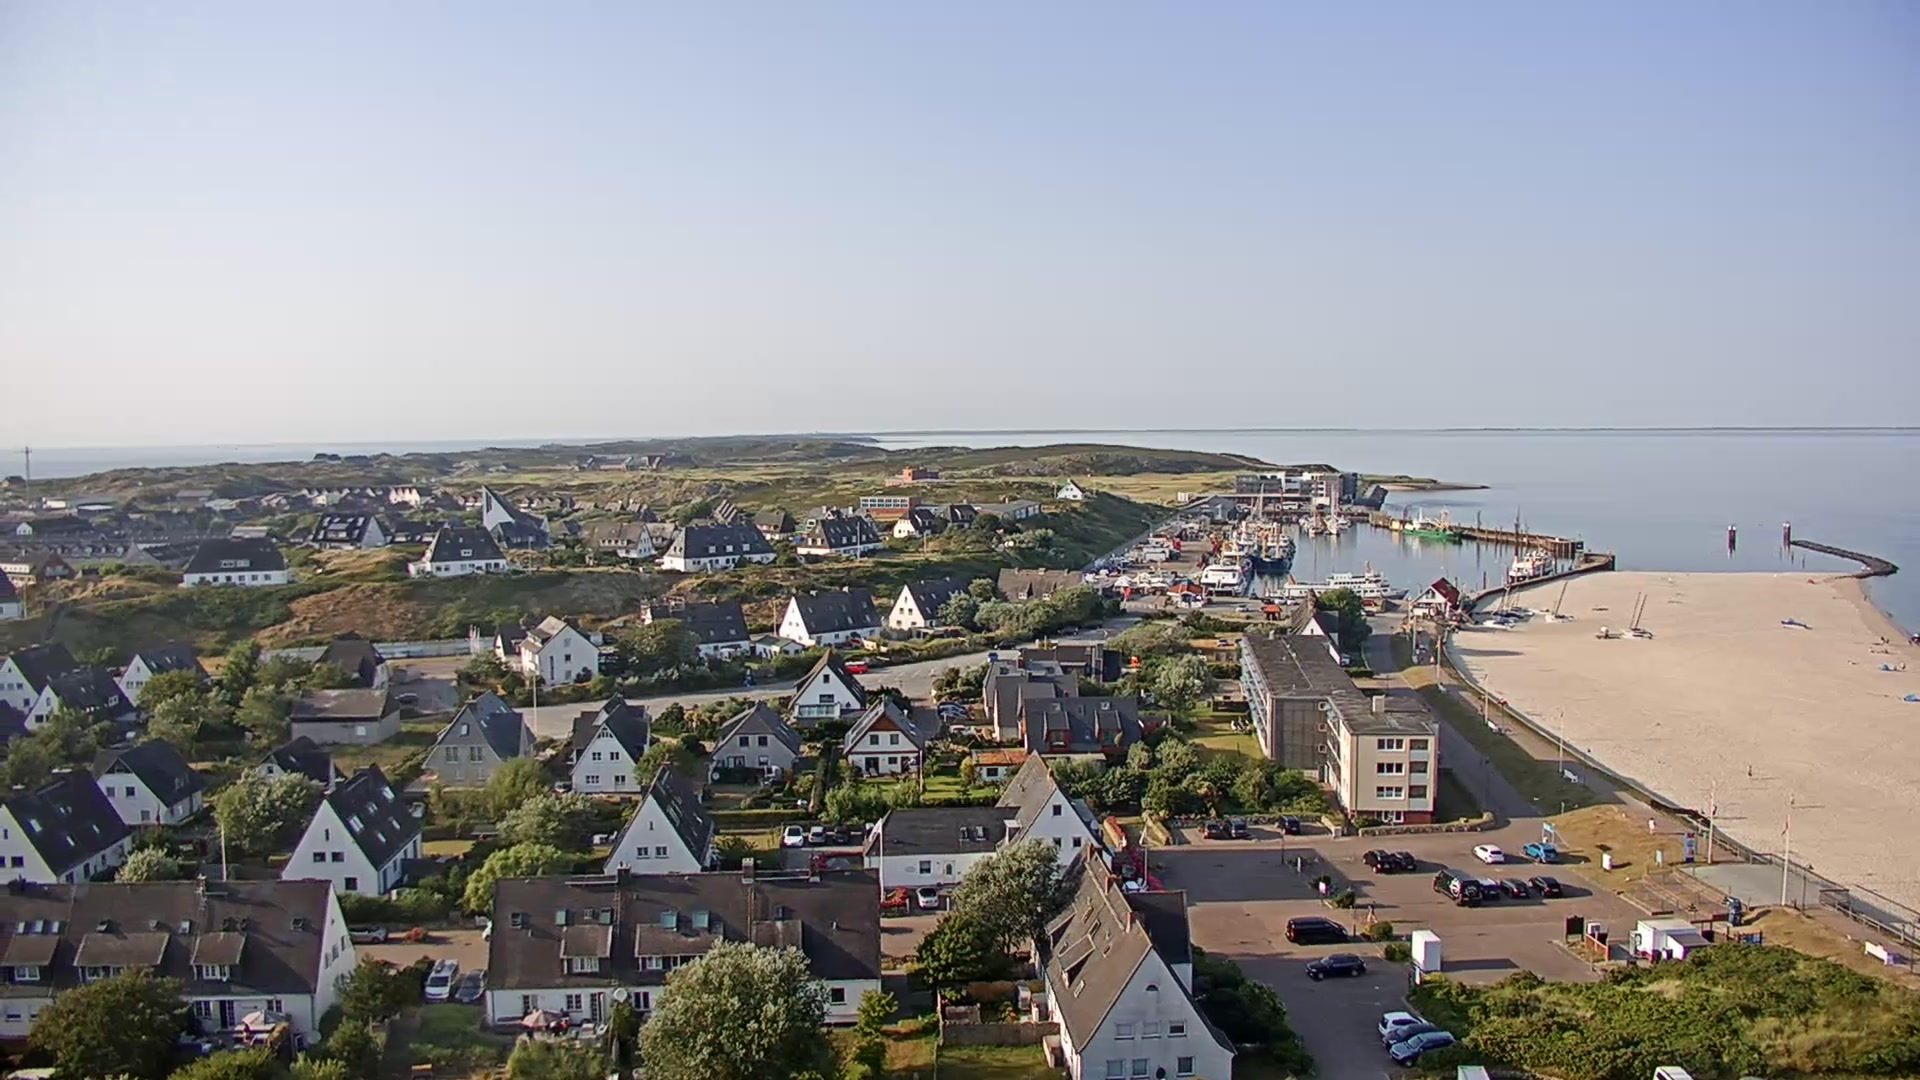human: (1364, 902, 1376, 925), (1646, 817, 1657, 835), (1874, 940, 1886, 952), (1229, 720, 1238, 732), (1878, 634, 1887, 640)
land: (1388, 1029, 1457, 1068), (1303, 950, 1368, 982), (1285, 914, 1351, 945), (1432, 869, 1484, 907), (421, 956, 460, 1003), (1381, 1020, 1440, 1050), (1377, 1010, 1431, 1038), (451, 965, 488, 1005), (1360, 847, 1395, 874), (1526, 875, 1565, 899), (1520, 840, 1560, 864), (345, 923, 389, 944), (1471, 843, 1506, 865), (1496, 878, 1530, 899), (912, 884, 939, 910), (1474, 876, 1501, 902), (1652, 1064, 1695, 1080), (1272, 812, 1301, 835), (1221, 818, 1250, 840), (1196, 819, 1224, 841), (1388, 850, 1418, 872), (782, 825, 804, 849), (938, 710, 976, 722), (807, 824, 827, 845), (831, 824, 850, 845), (391, 691, 419, 705), (935, 702, 965, 715), (842, 660, 868, 674), (1055, 623, 1079, 636), (991, 638, 1016, 650), (1084, 618, 1103, 629), (106, 666, 122, 677), (1274, 594, 1287, 604), (987, 651, 998, 662), (1235, 603, 1248, 611), (1216, 641, 1228, 647), (1249, 591, 1257, 598), (1263, 597, 1272, 603)
sea: (1281, 559, 1410, 599), (1507, 539, 1555, 585), (1405, 504, 1455, 540), (1619, 589, 1654, 639), (1198, 563, 1247, 596), (1255, 531, 1294, 574), (1210, 546, 1253, 583), (1298, 482, 1327, 533), (1544, 579, 1574, 622), (1482, 586, 1512, 629), (1492, 581, 1522, 618), (1504, 579, 1534, 616), (1324, 486, 1340, 534), (1336, 514, 1352, 531)
